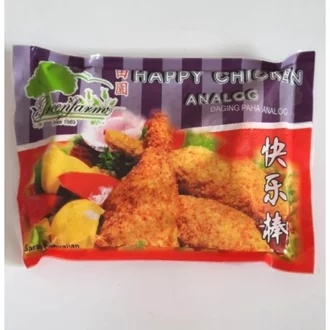ayam_goreng: (102, 108, 192, 255)
